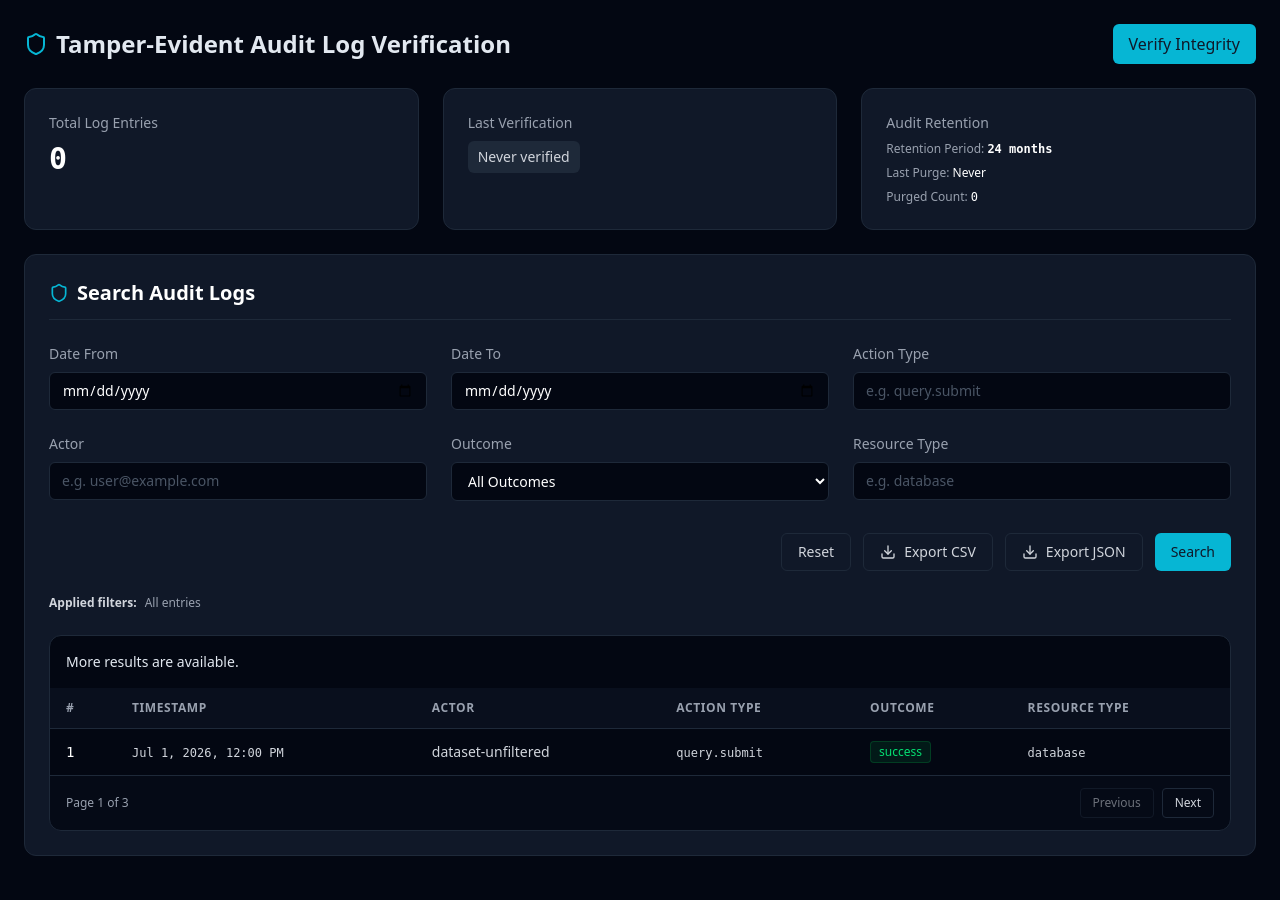
AdminAuditPage applied-filter authority (CHUNK-22 / CHUNK-28) › renders only field labels/status and marks new drafts as unapplied
Check: the text "dataset-unfiltered" is shown, box [432,742,550,761]
In the field labelled "Actor": (238, 481) [49,462,427,500], type "first-sensitive-draft"
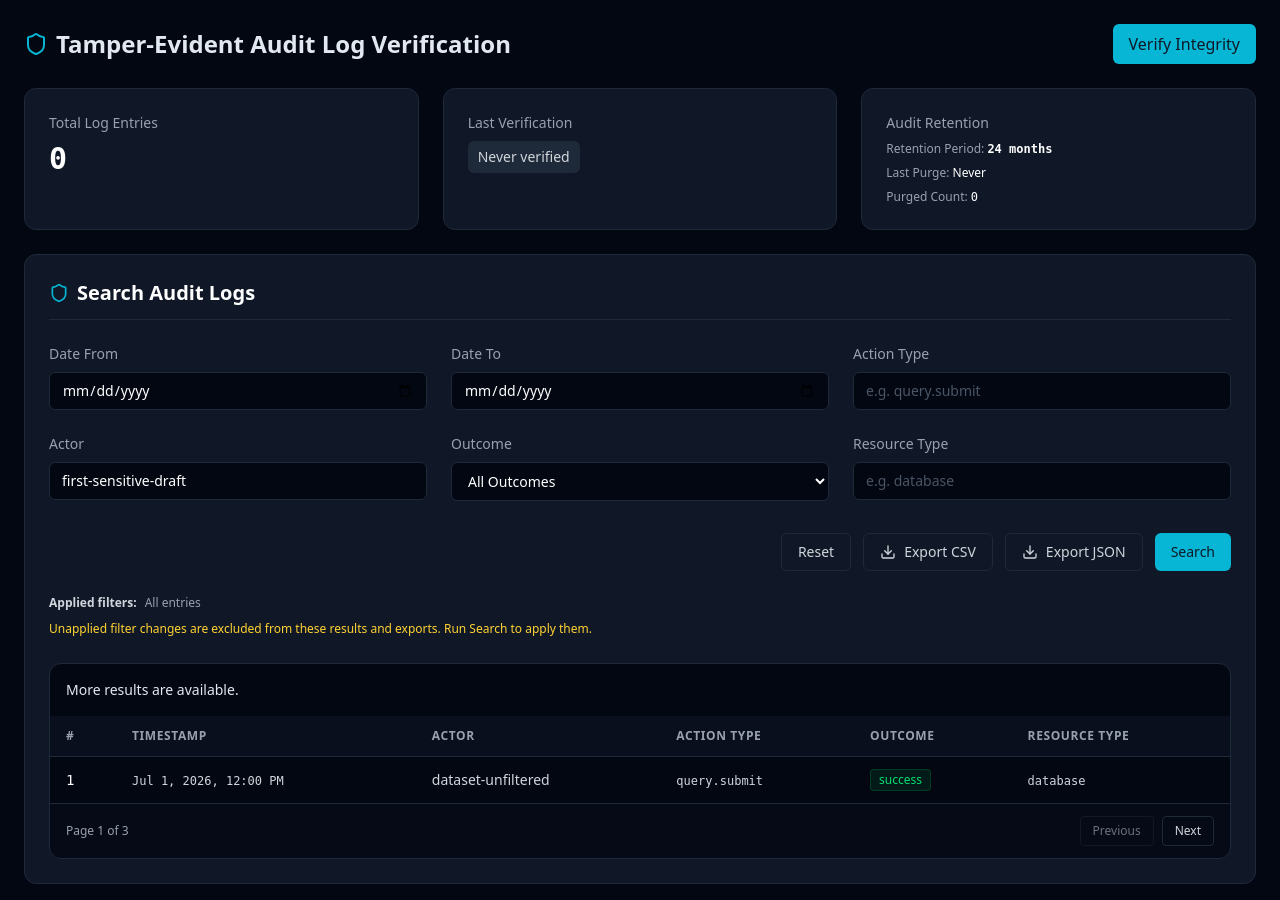
Click the button "Search": (1193, 552) [1155,533,1231,571]
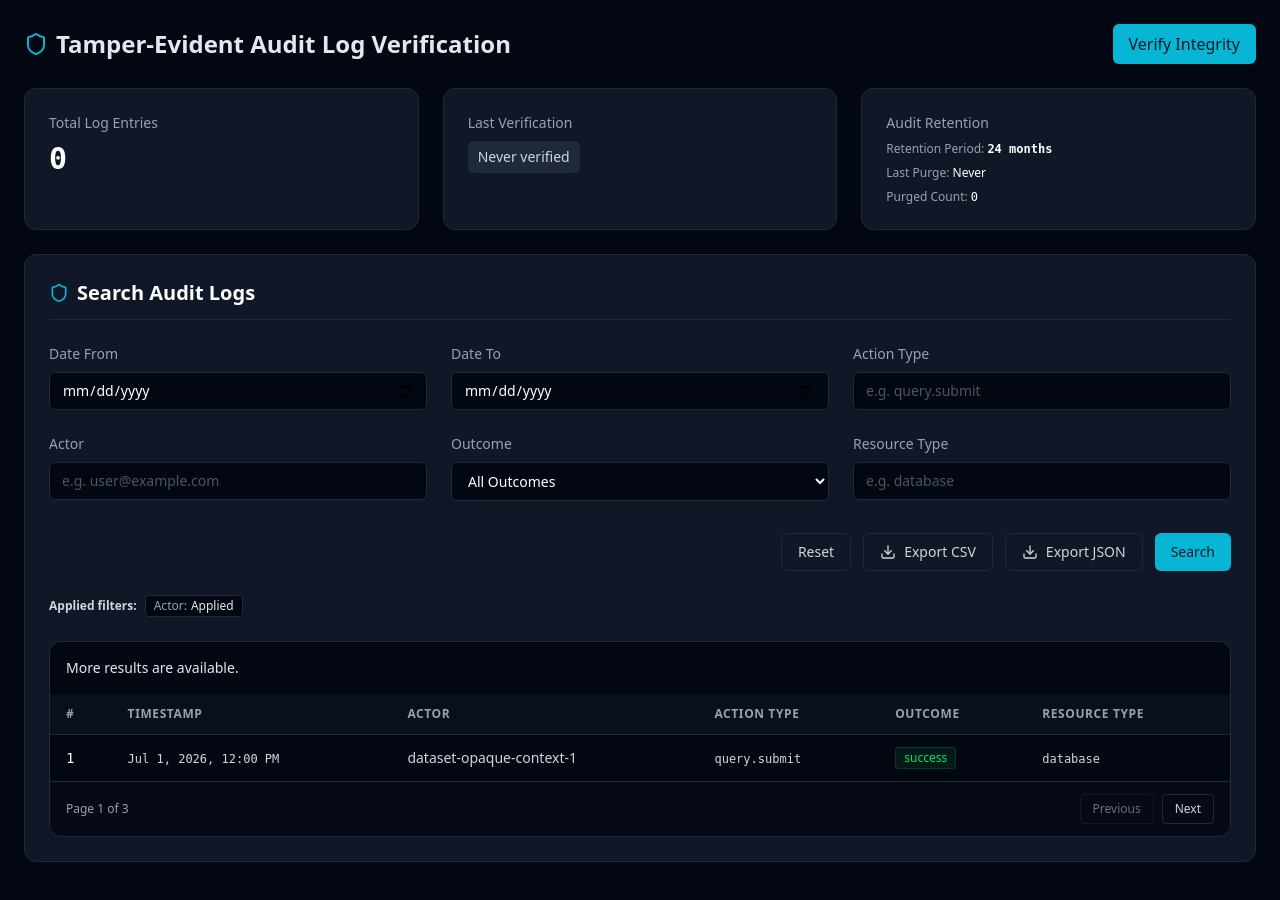
Check: the element with test id "audit-applied-filters" does not show "first-sensitive-draft", box [49,595,243,617]
Check: the text "dataset-opaque-context-1" is shown, box [407,748,577,767]
Check: the element with test id "audit-applied-filters" reads "Applied filters: Actor: Applied", box [49,595,243,617]
In the field labelled "Actor": (238, 481) [49,462,427,500], type "unsent-sensitive-draft"
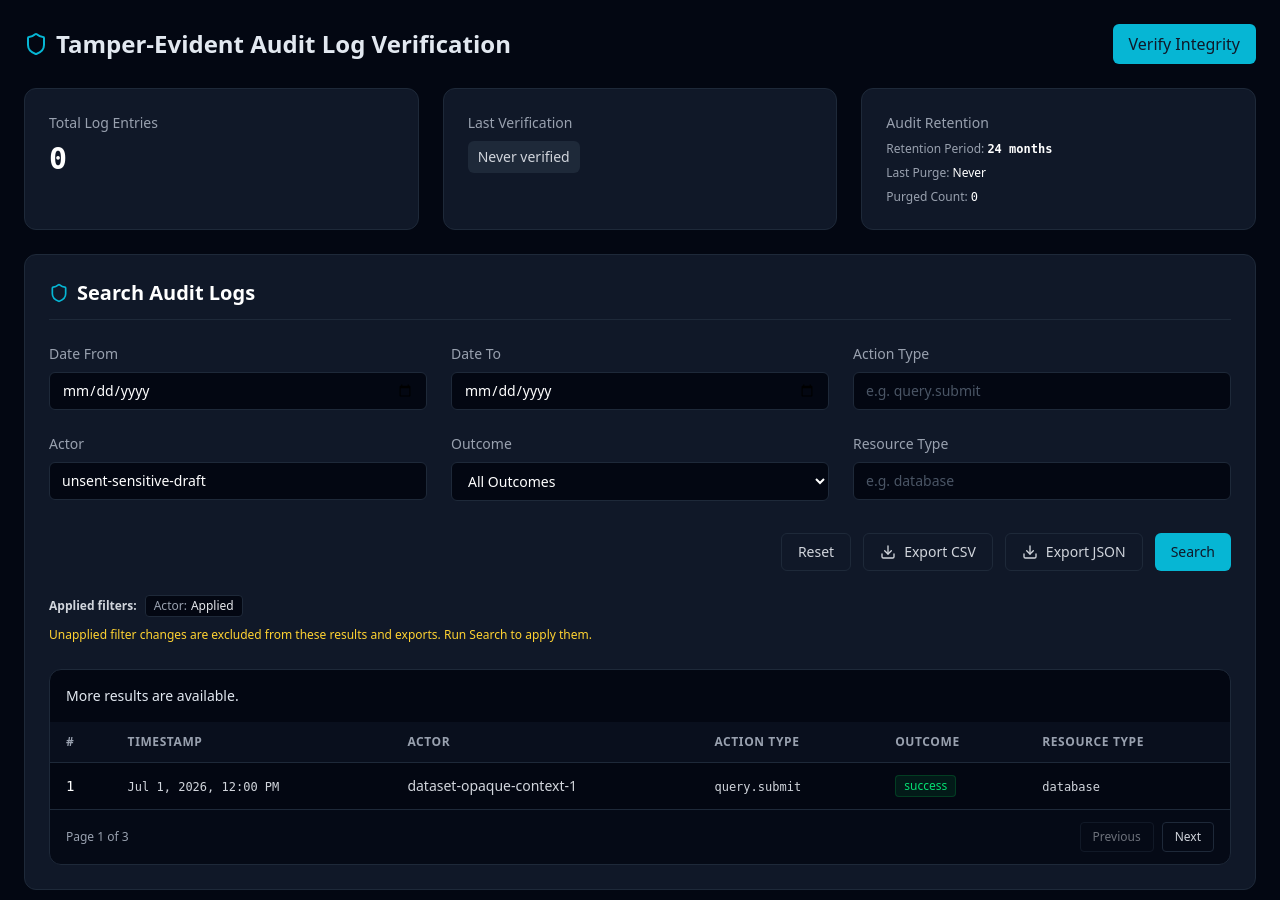
Check: the text with test id "audit-draft-filters-notice" is shown, box [49,626,592,643]
